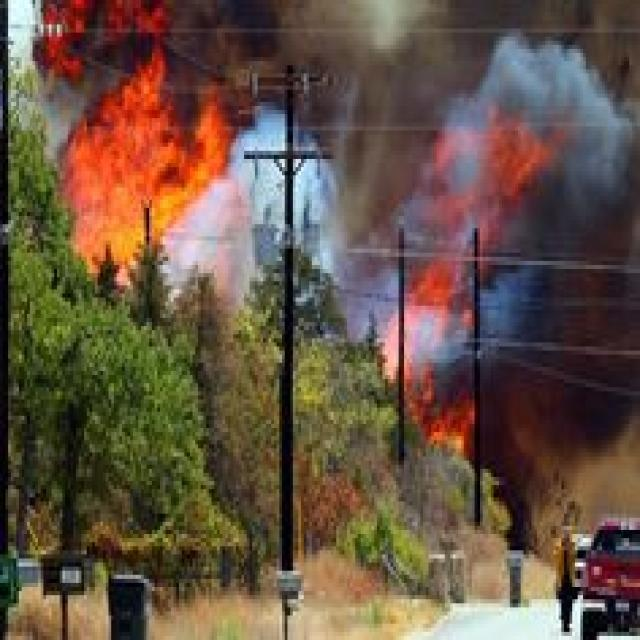Fire: (15, 0, 238, 304), (426, 91, 584, 281), (370, 252, 490, 472)
Smoke: (333, 0, 640, 432), (147, 98, 342, 327)
